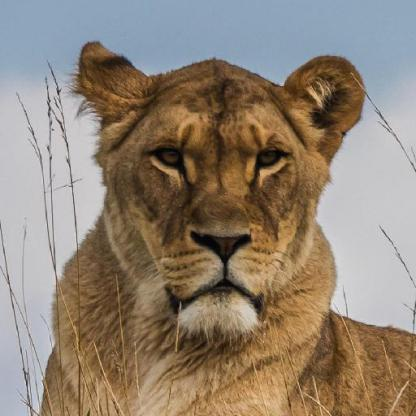lion: (87, 52, 348, 320)
